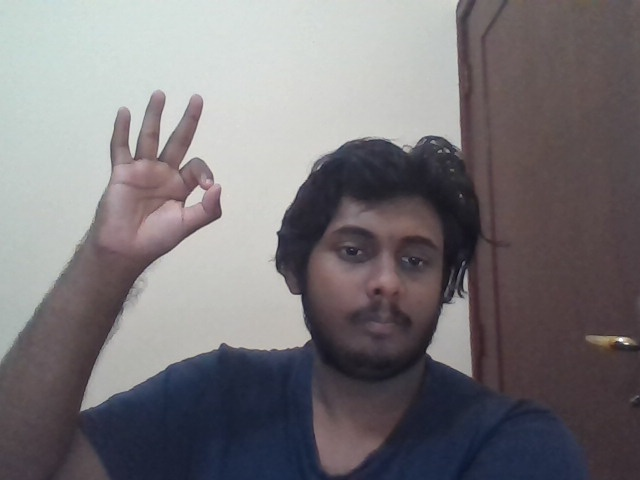ok: (91, 88, 223, 266)
